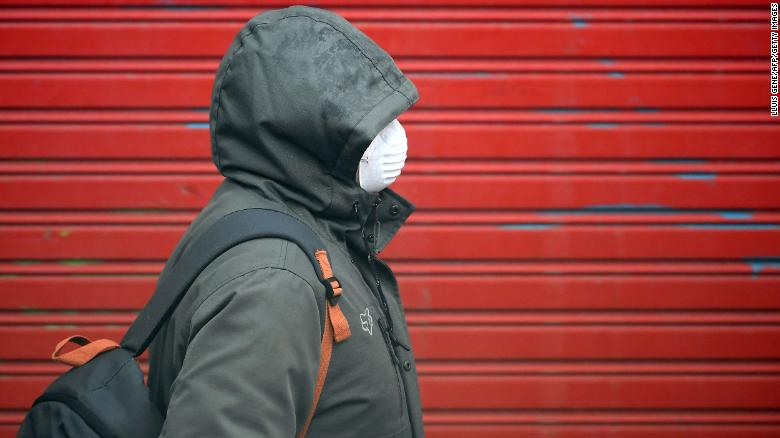with_mask: (280, 47, 424, 213)
